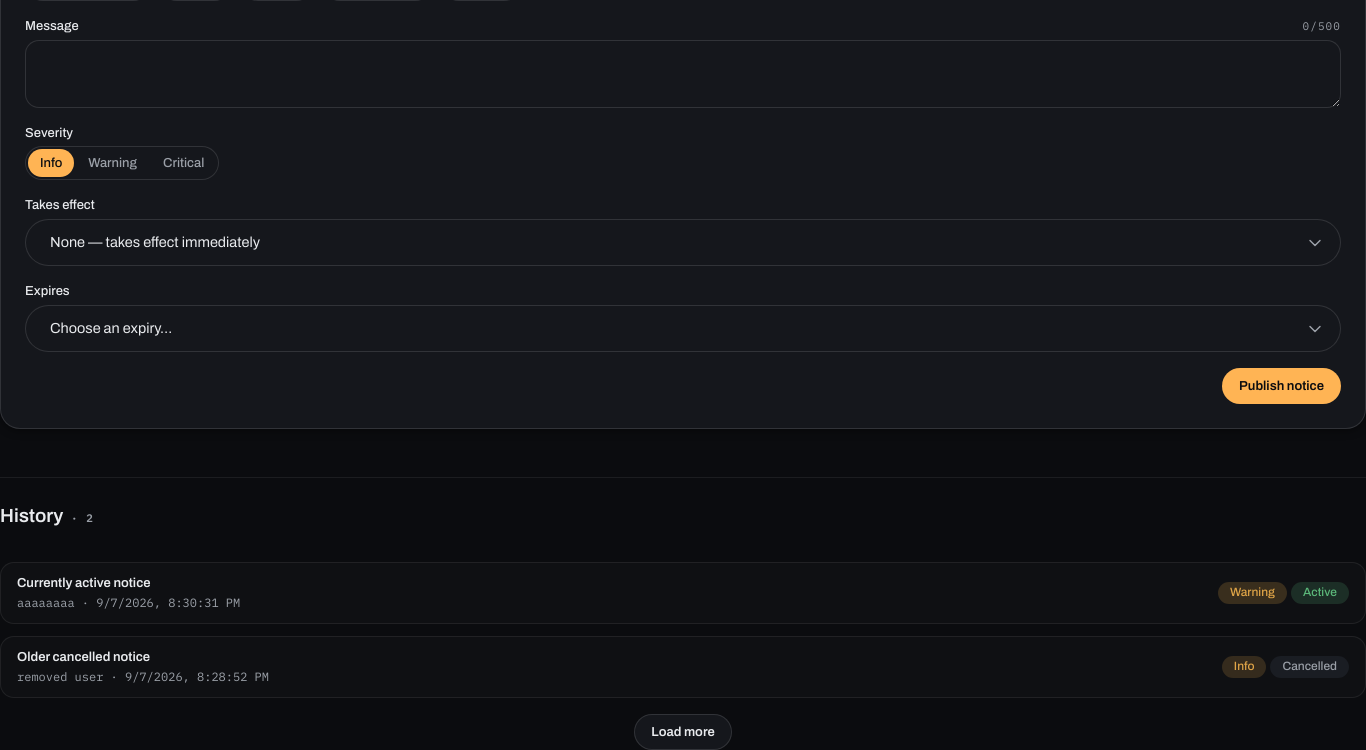
Test case: NoticesSection — composition › "Load more" fetches the next cursor page and appends to the history list
(page scrolled)
Click the button "Load more" at [683, 732], box [634,714,732,749]
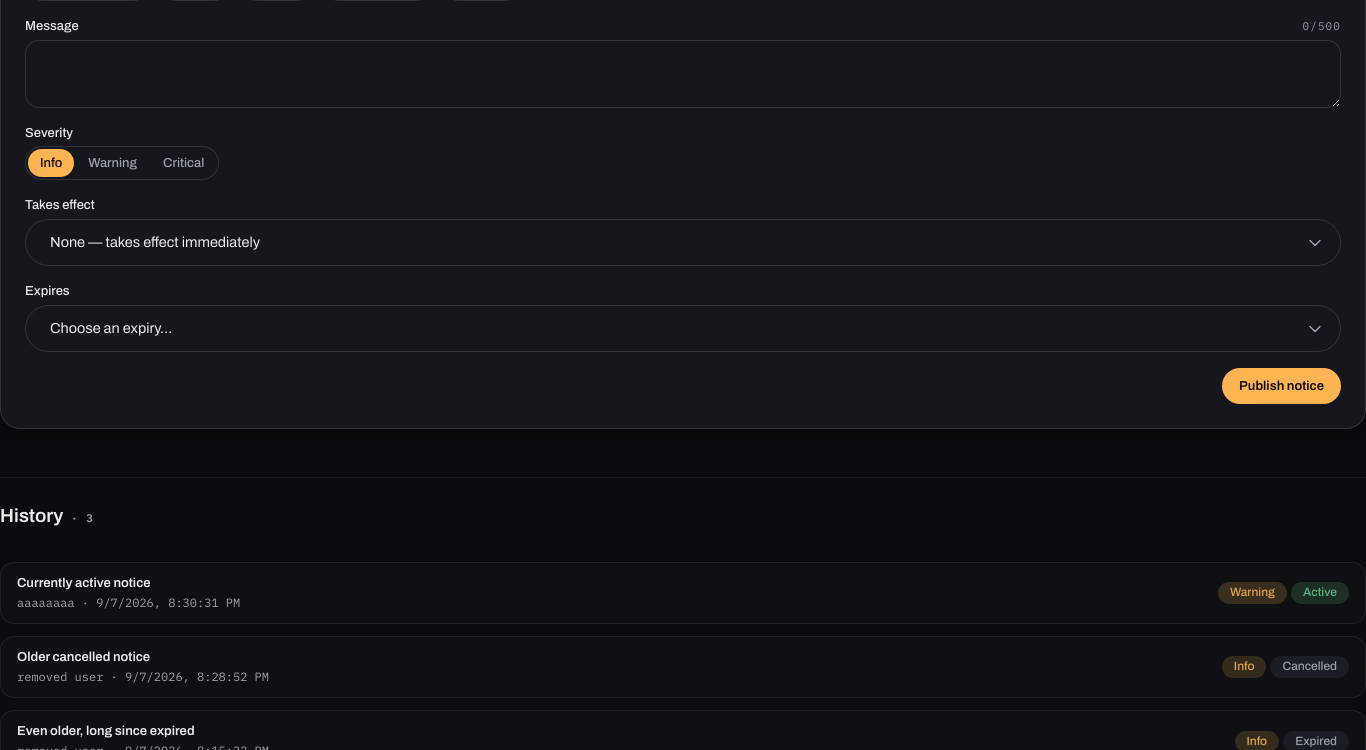
Result: the text "Even older, long since expired" is shown at [17,724,195,738]
Result: the text "· 3" is shown at [63,511,94,525]
